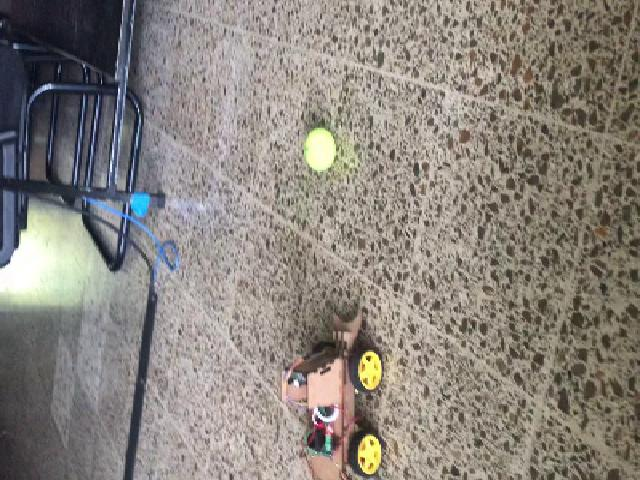Ball: (304, 128, 336, 170)
Robot: (282, 306, 382, 478)
